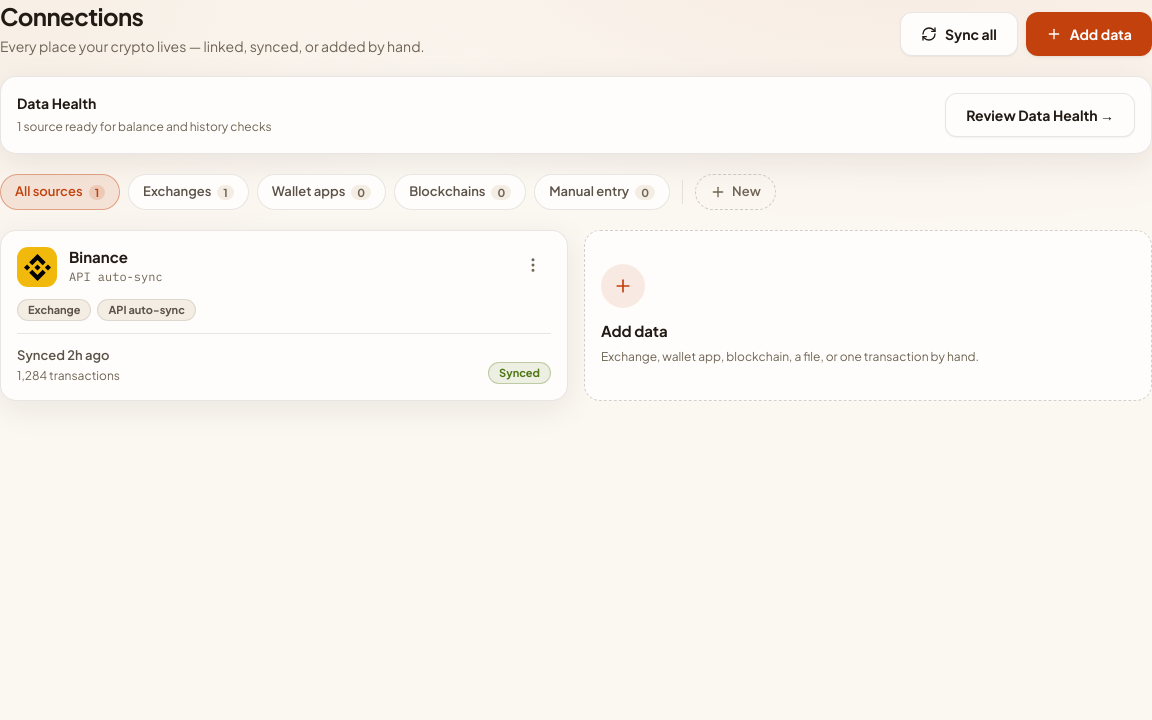
Test: ConnectionsHome — exchange actions › kebab Remove confirms then deletes the connection and its transactions
The image size is (1152, 720).
Click the button named "Binance actions" at [533, 265], box x1=511 y1=243 x2=555 y2=287
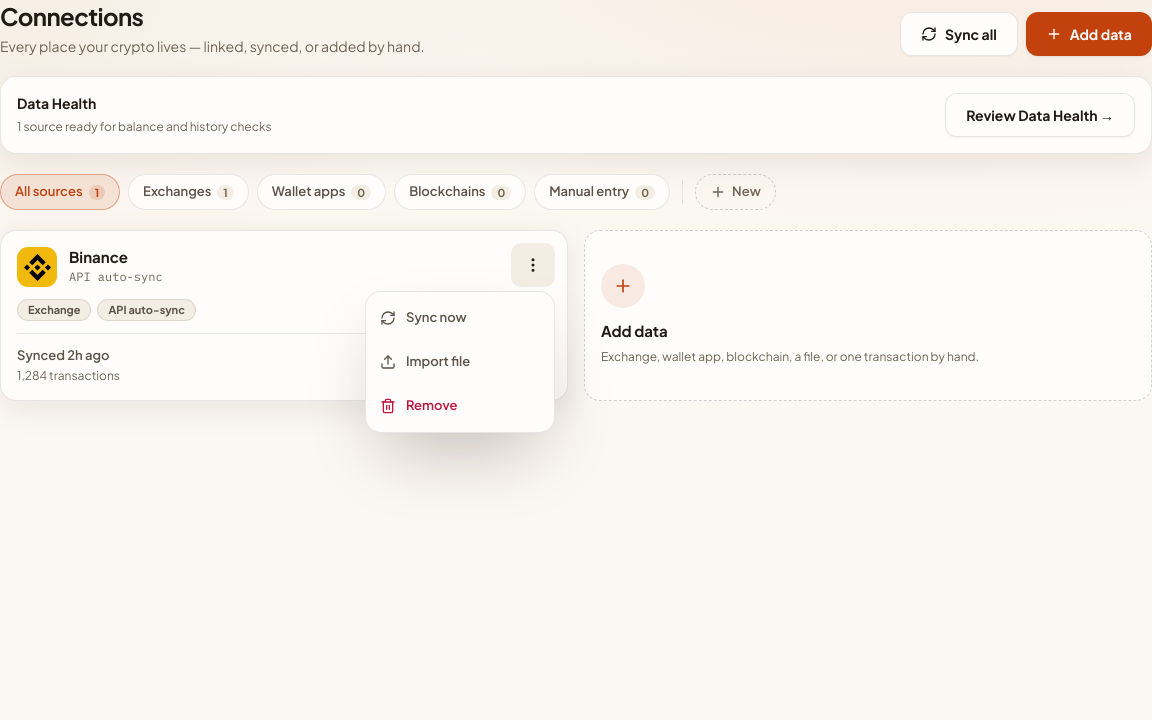
Click the menu item "Remove" at [460, 406], box x1=366 y1=384 x2=554 y2=428
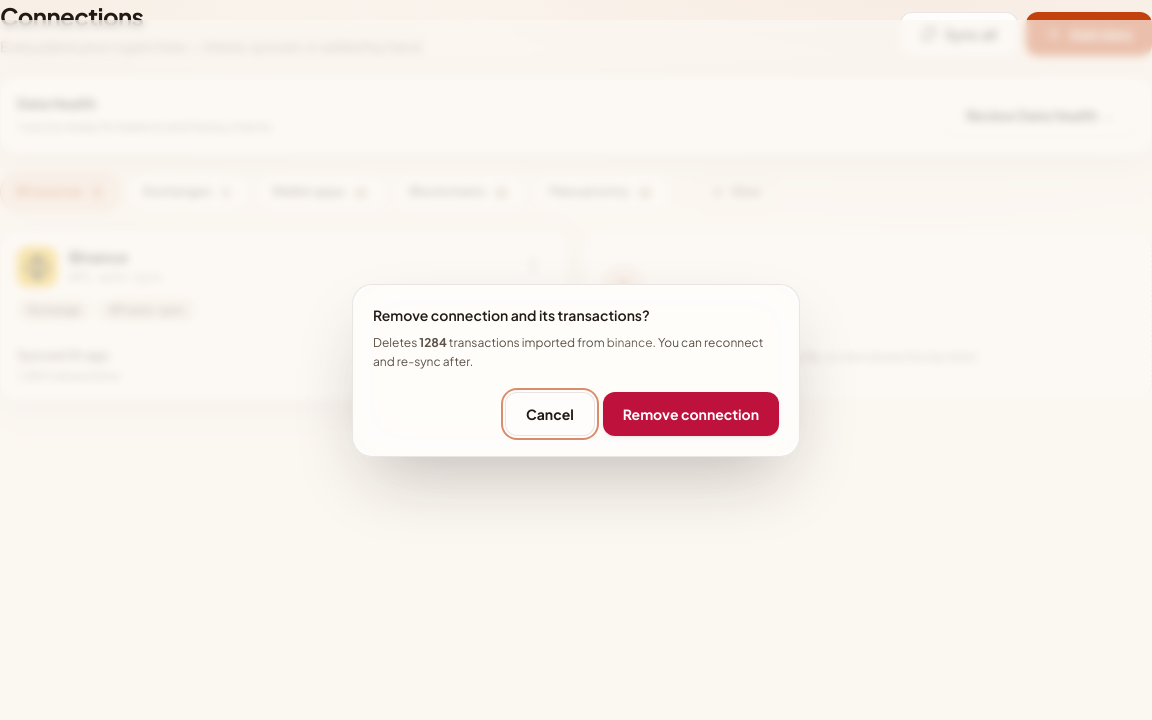
Expected: the heading "Remove connection and its transactions?" is shown, x1=373 y1=306 x2=650 y2=324
Expected: the text "1284" is shown, x1=419 y1=334 x2=447 y2=350
Click the button "Remove connection" at [691, 414], box x1=603 y1=392 x2=779 y2=436
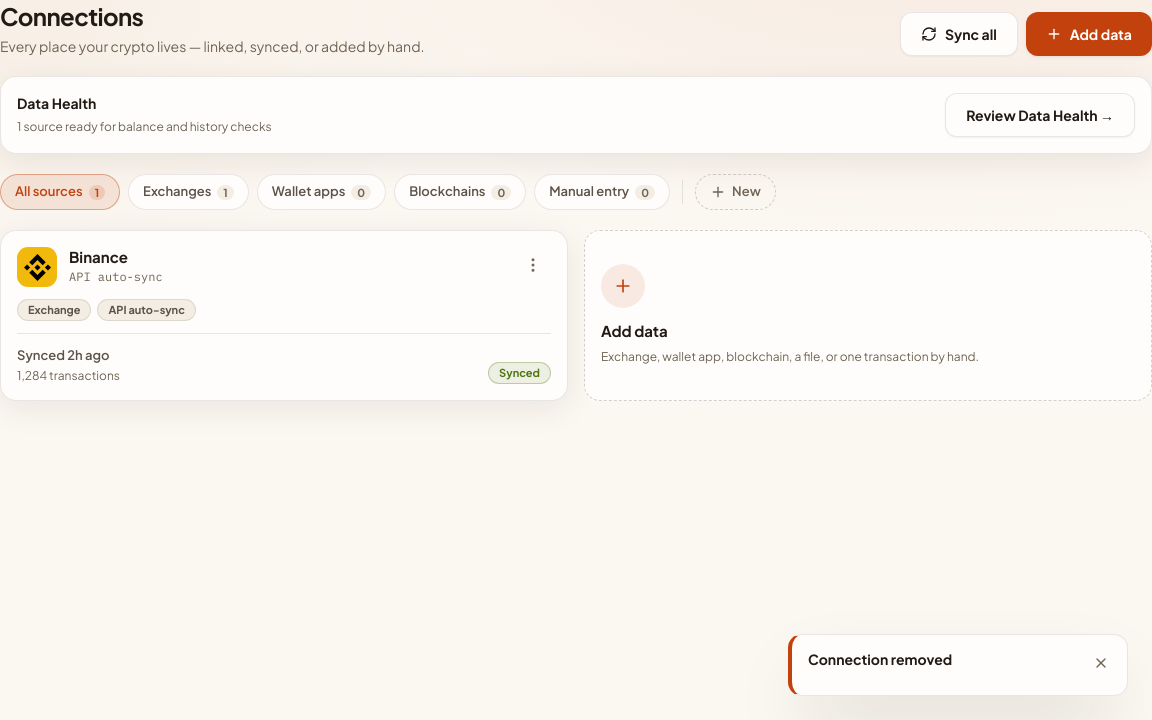
Expected: the text "Connection removed" is shown, x1=808 y1=650 x2=952 y2=668
